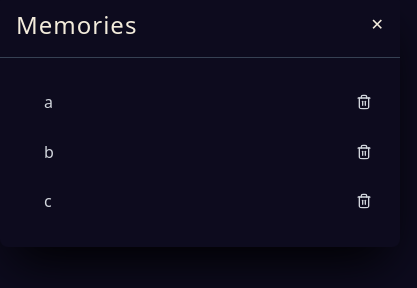
Test: <Memory /> deleting a memory › removes only the deleted memory from the list
Check: the list item "b" is shown, box [44,140,376,164]
What coordinates should you click on to do the following:
click the 2nd icon
I would click on:
 (364, 152)
Its box is [352,140,376,164].
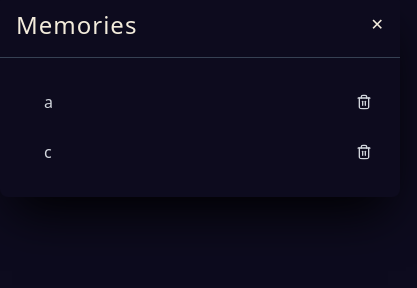
Check: the list items read "a", "c", in this order, box [44,90,376,114]; [44,140,376,164]
Check: the list item "b" is gone
